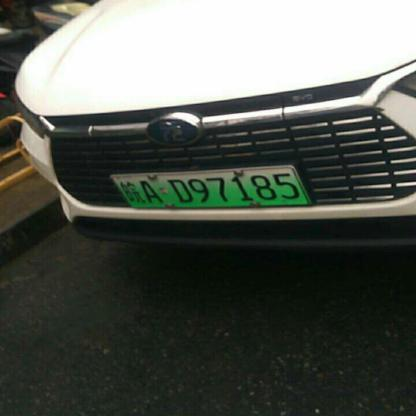lp: (112, 167, 310, 208)
